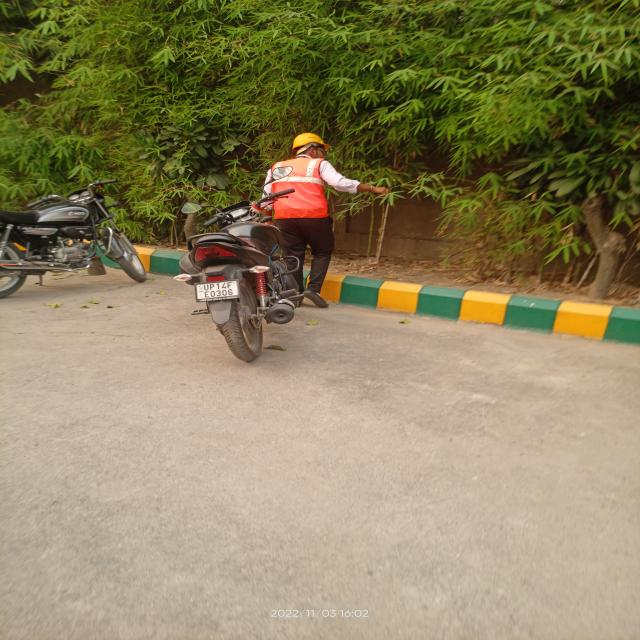safe: (254, 130, 358, 316)
